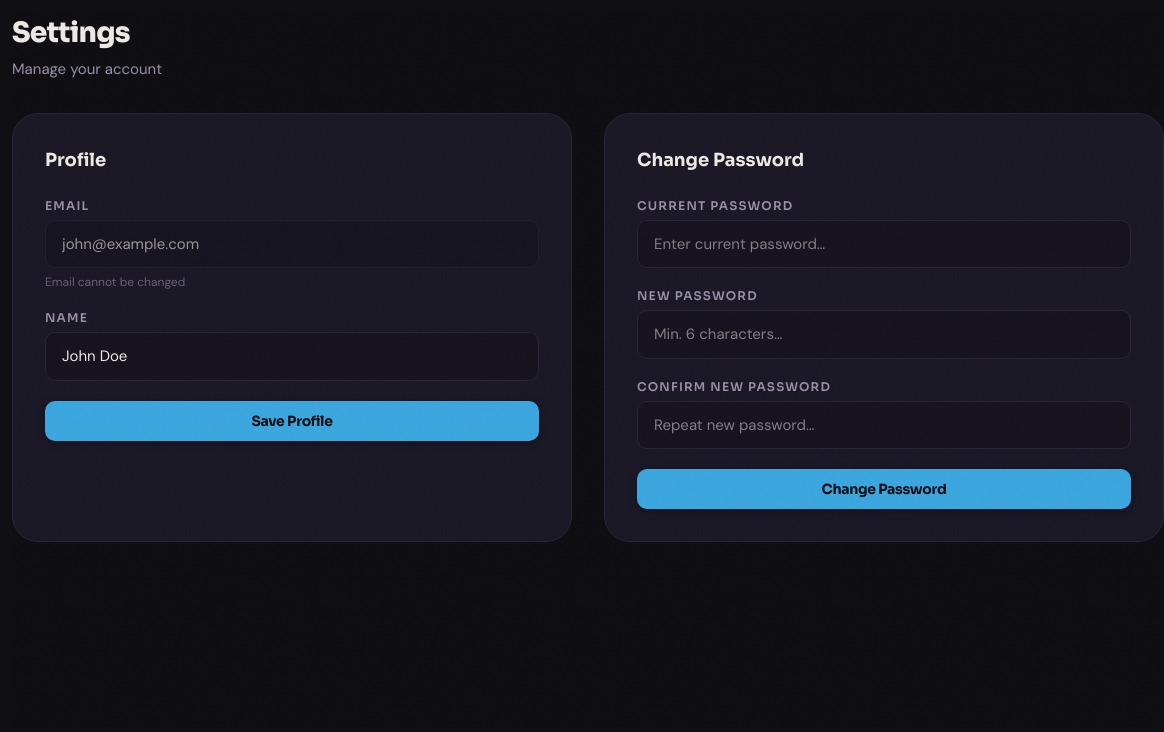
Test case: SettingsPage › shows validation error when profile name is empty
This screenshot has width=1164, height=732.
Step 1. Clear the field showing "John Doe" → [292, 356], box [45,332,539,380]
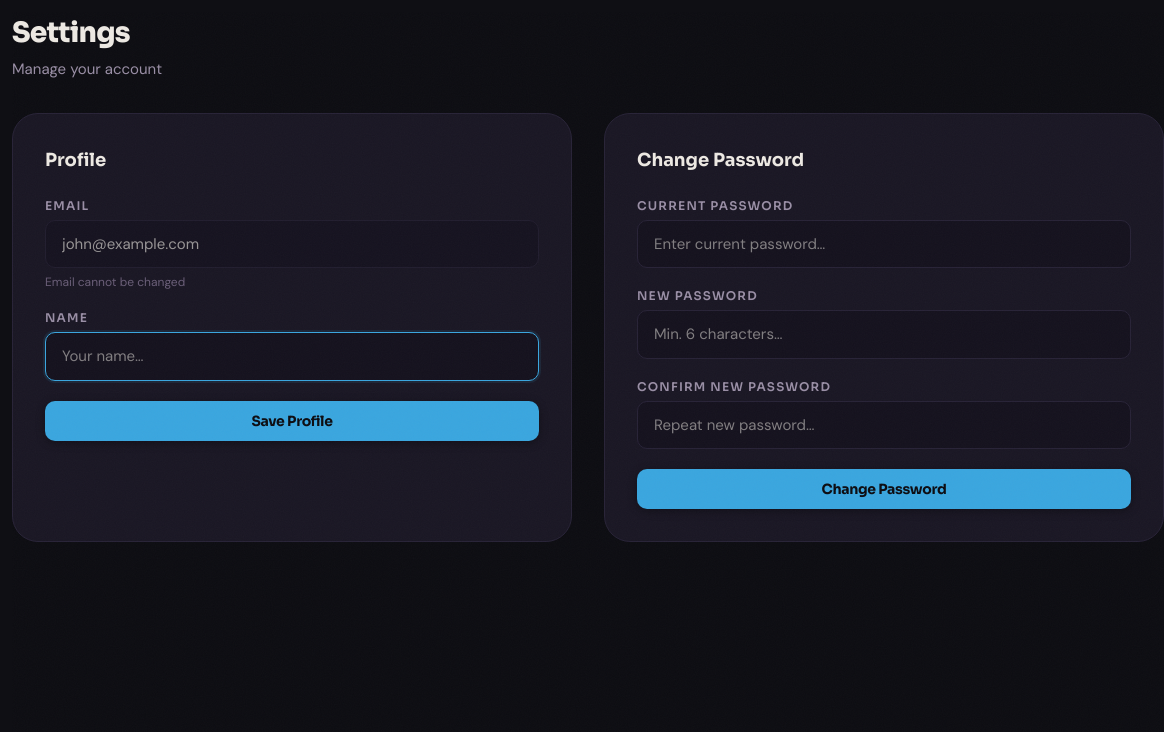
Step 2. Click the button "Save Profile" → [292, 420], box [45,400,539,440]
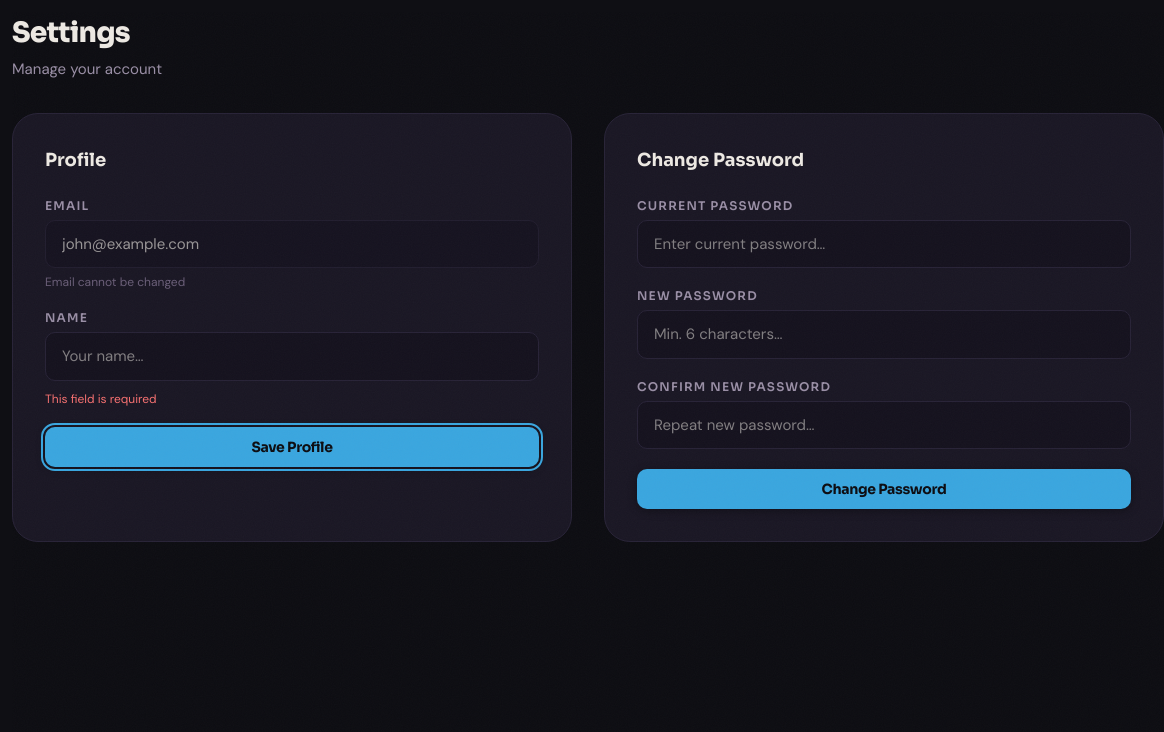
Check: the text "This field is required" is shown, box [45,390,157,406]
